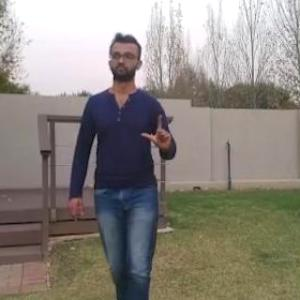land_hand: (138, 109, 176, 152)
